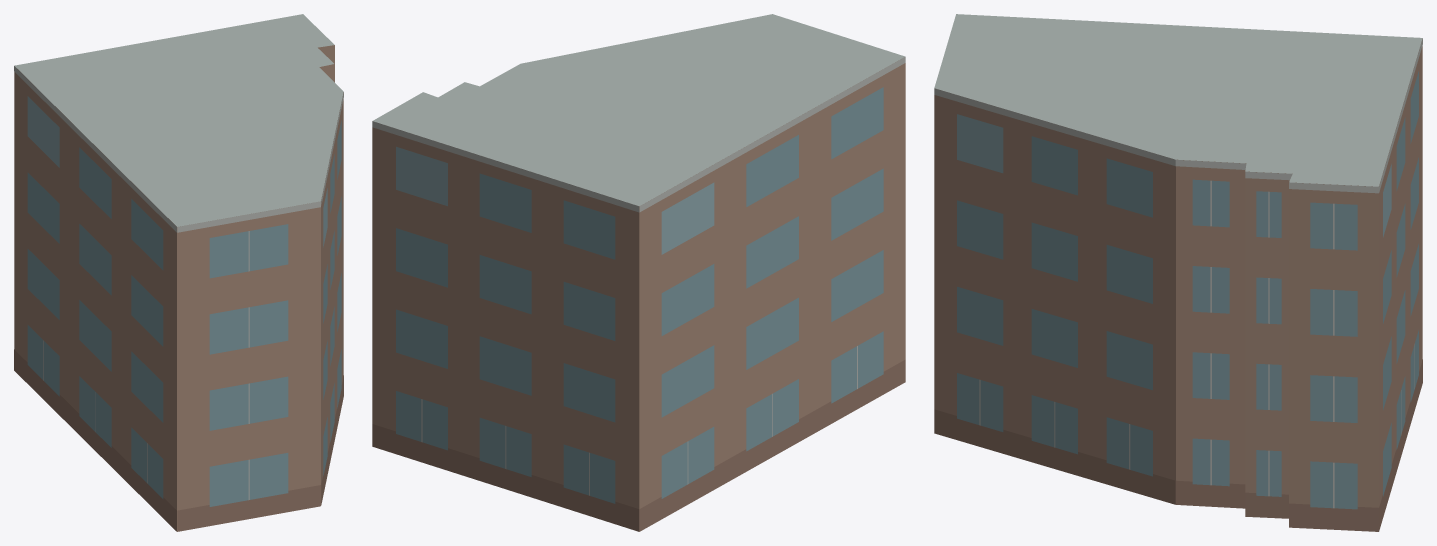
Rendered from survey-upis-32615804.glb.
3 views of the same model, side by side, from view 1: azimuth 30°, elevation 25°; view 2: azimuth 150°, elevation 25°; view 3: azimuth 270°, elevation 25° (orthographic). The views are drawn at different scales.
Parts seen in each view (by area): view 1: survey-upis-32615804.tmp; view 2: survey-upis-32615804.tmp; view 3: survey-upis-32615804.tmp.
Boxes of the visible parts, x1,y1,x2,y2 form: survey-upis-32615804.tmp: (14, 14, 343, 531); survey-upis-32615804.tmp: (372, 14, 905, 531); survey-upis-32615804.tmp: (934, 14, 1422, 531).
Bounding box in the file's own units: 13.69 × 12.75 × 16.37.
